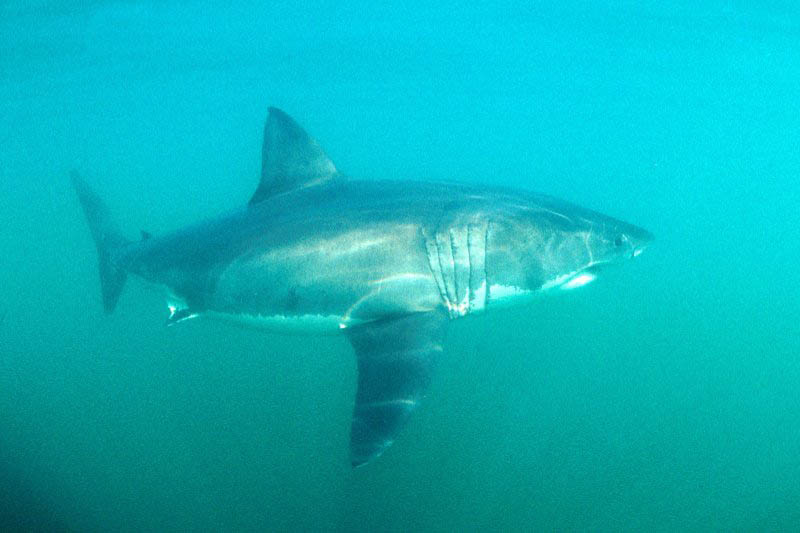Carcharodon_carcharias: (45, 94, 726, 485)
